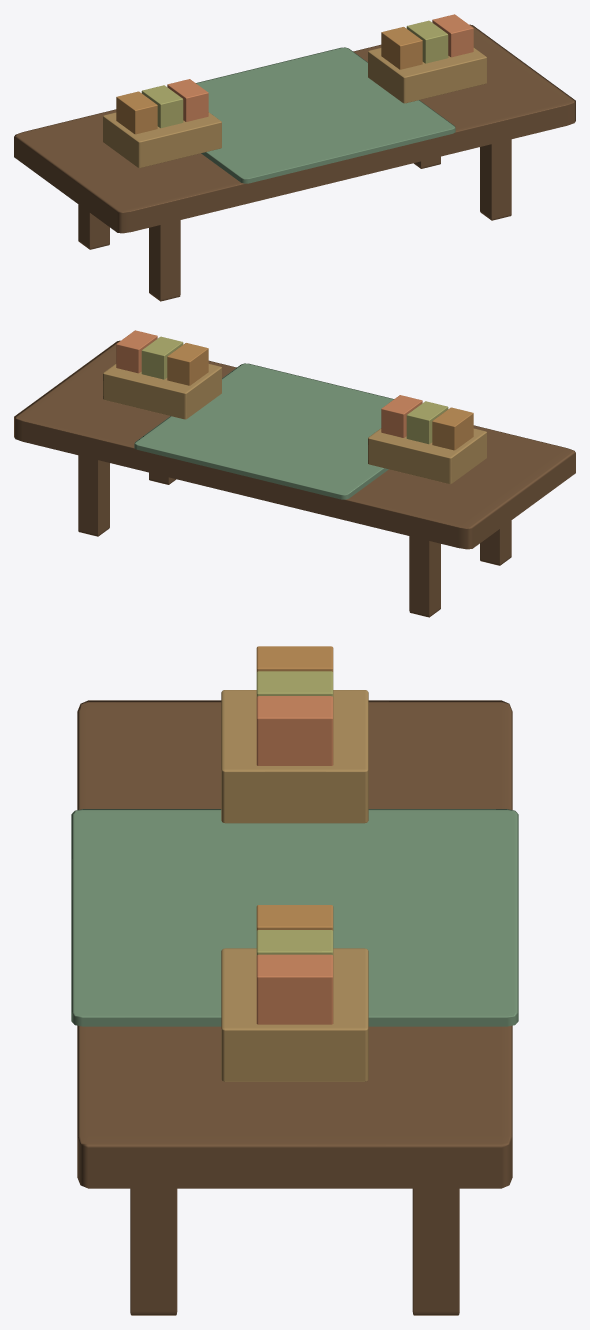
The model's file is harvesttable-1.glb.
3 renders of one model, top to bottom at view 1: azimuth 30°, elevation 25°; view 2: azimuth 150°, elevation 25°; view 3: azimuth 270°, elevation 25°, orthographic. The views are drawn at different scales.
Parts seen in each view (by area): view 1: harvesttable-1-0; view 2: harvesttable-1-0; view 3: harvesttable-1-0.
Boxes of the visible parts, left/top/right/bottom form: harvesttable-1-0: left=14, top=14, right=575, bottom=301; harvesttable-1-0: left=14, top=330, right=575, bottom=617; harvesttable-1-0: left=71, top=646, right=518, bottom=1315.
Size of the model in its own units: 1.8 by 0.625 by 0.76.
